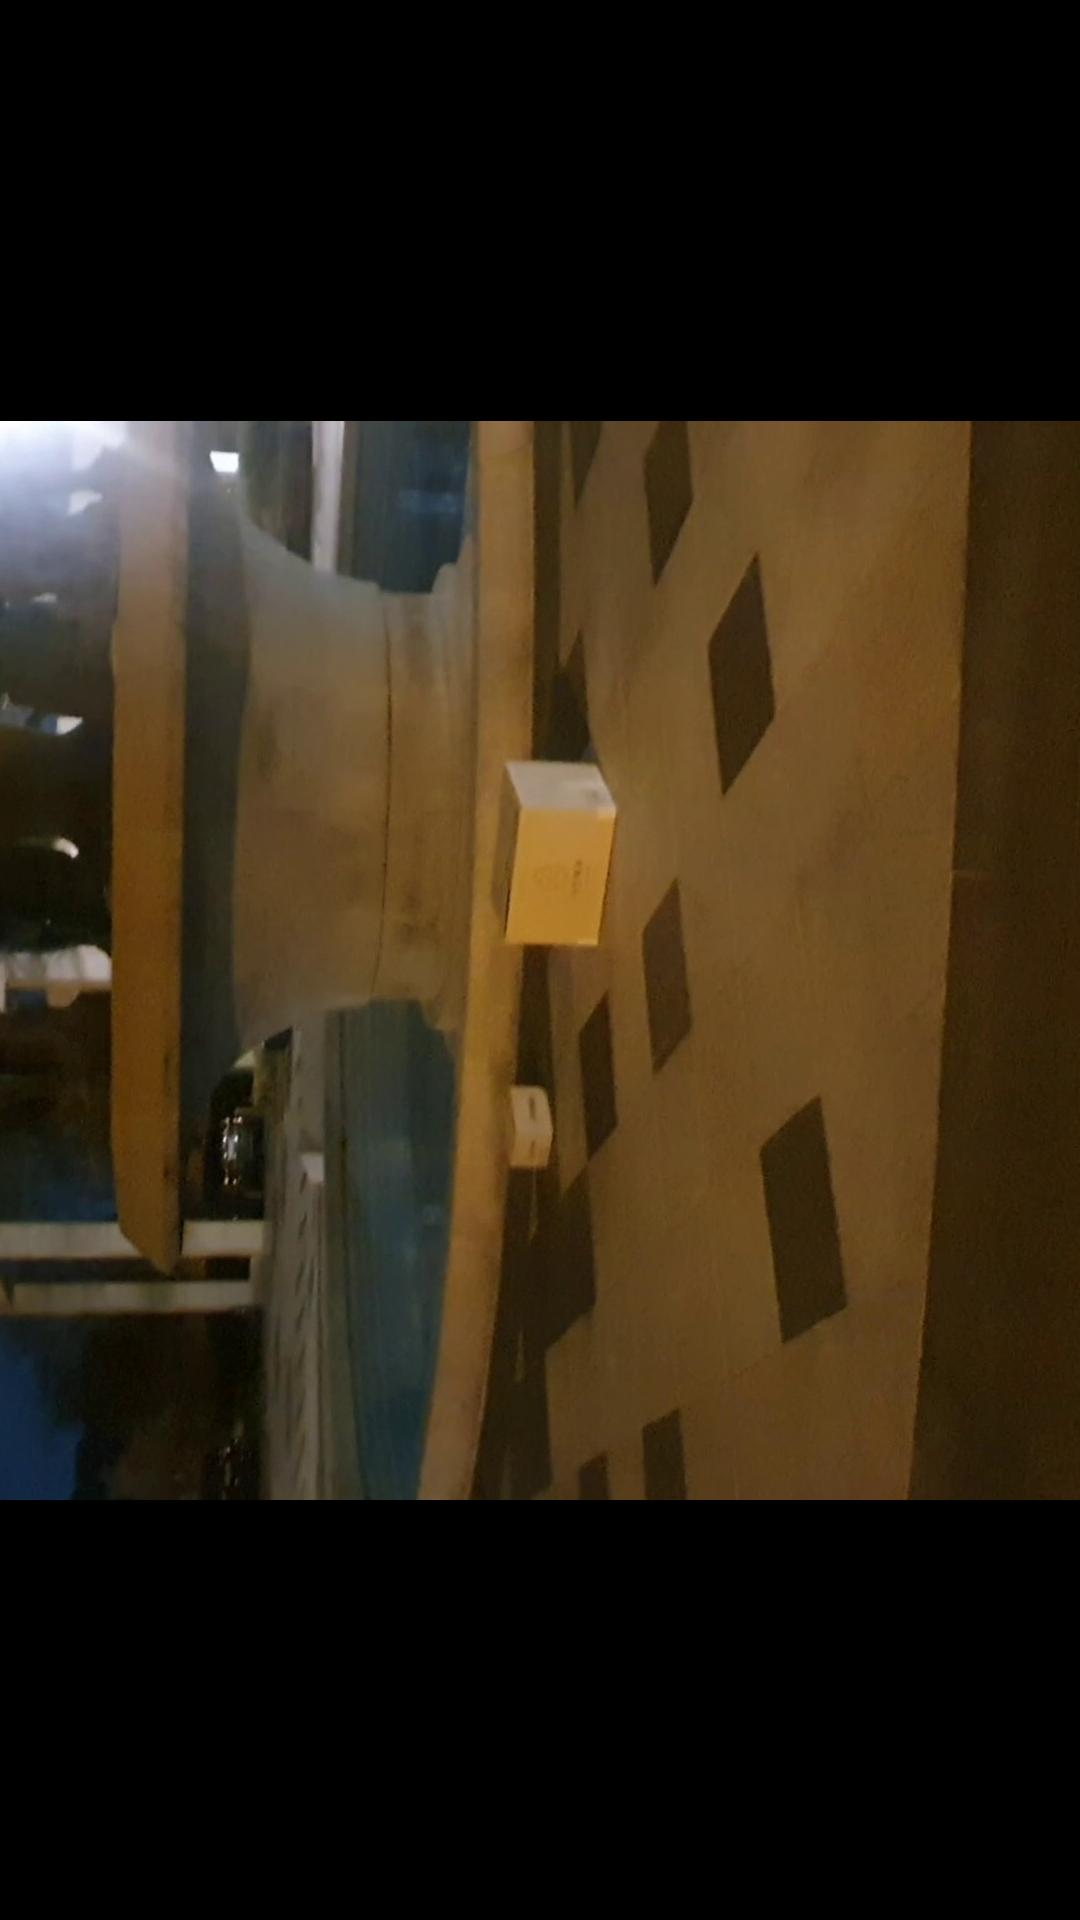Box: (477, 756, 615, 944), (477, 1093, 550, 1182)
